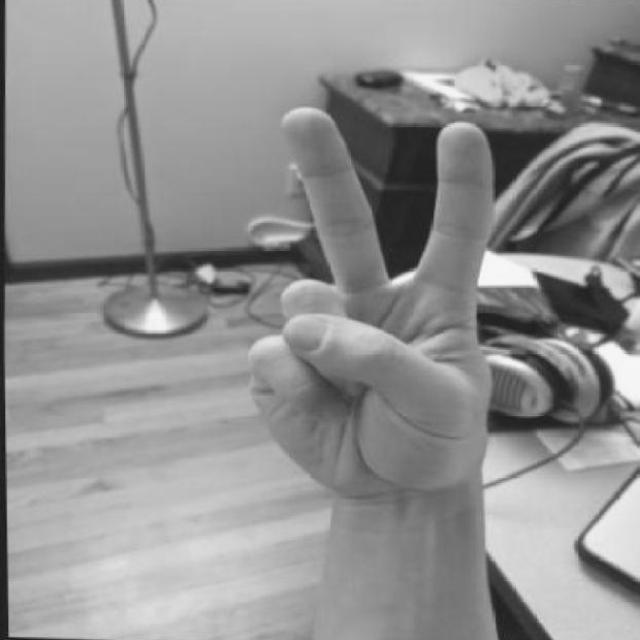V: (232, 98, 515, 640)
